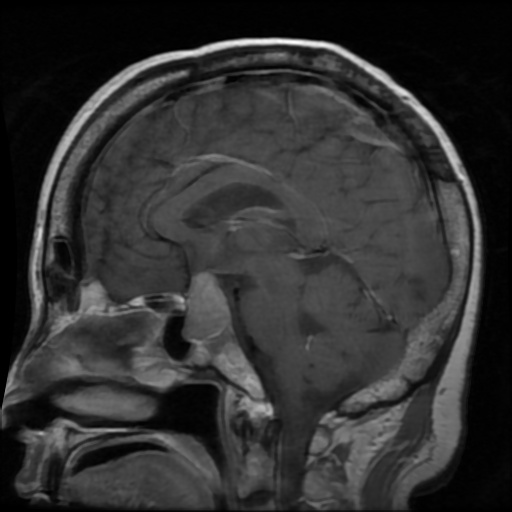pituitary: (184, 269, 232, 343)
